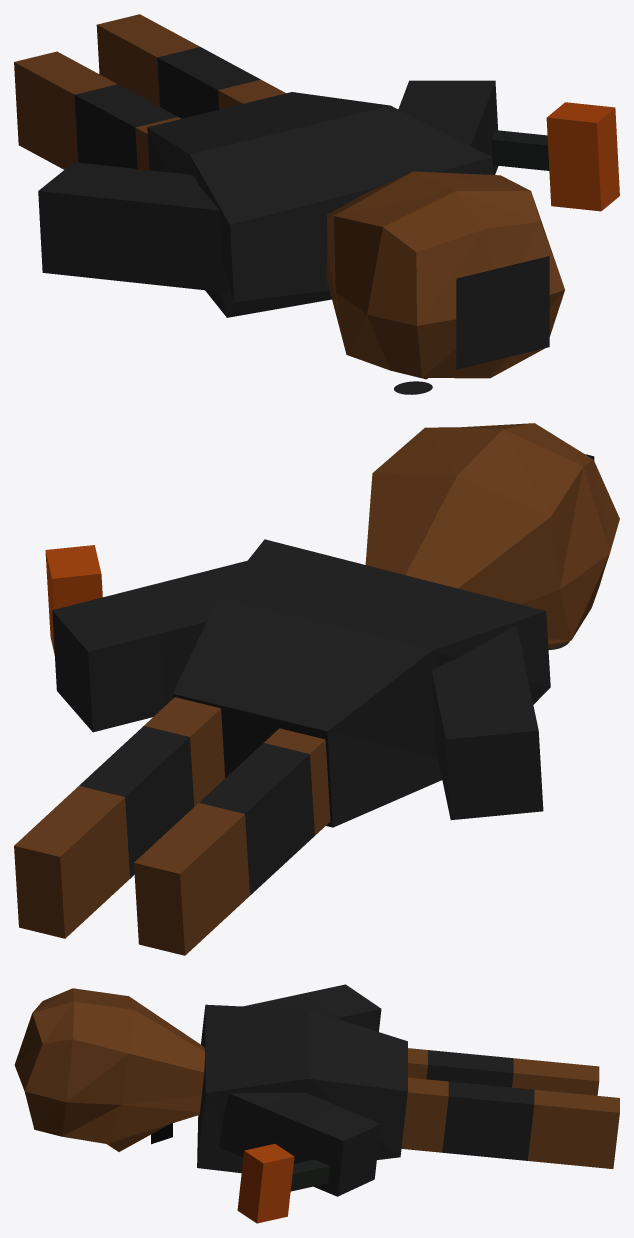
The model's file is servant3d.obj.
3 renders of one model, top to bottom at view 1: azimuth 30°, elevation 25°; view 2: azimuth 150°, elevation 25°; view 3: azimuth 270°, elevation 25°, orthographic. The views are drawn at different scales.
Visible parts, largest first — view 1: Cube.001, Cube, Cube.003, Cube.004, Cube.005, Plane.002, Cube.008, Cube.002, Cube.007; view 2: Cube.001, Cube, Cube.005, Cube.004, Cube.002, Cube.003, Cube.008; view 3: Cube, Cube.001, Cube.005, Cube.002, Cube.004, Cube.008, Cube.003, Cube.007.
Boxes of the visible parts, x1,y1,x2,y2 form: Cube.001: (147,92,492,317); Cube: (326,171,564,379); Cube.003: (38,162,228,292); Cube.004: (14,51,181,170); Cube.005: (96,14,285,118); Plane.002: (456,256,549,369); Cube.008: (546,102,619,211); Cube.002: (398,80,498,174); Cube.007: (491,130,549,170); Cube.001: (172,539,550,827); Cube: (365,423,619,648); Cube.005: (14,697,224,938); Cube.004: (134,728,330,955); Cube.002: (52,561,246,732); Cube.003: (431,625,543,820); Cube.008: (45,545,102,653); Cube: (14,988,204,1151); Cube.001: (197,1004,407,1173); Cube.005: (401,1077,619,1168); Cube.002: (219,1092,380,1196); Cube.004: (408,1048,599,1095); Cube.008: (237,1143,294,1223); Cube.003: (243,984,381,1031); Cube.007: (290,1159,329,1191).
Bounding box in the file's own units: 4.16 × 1.63 × 5.96.
